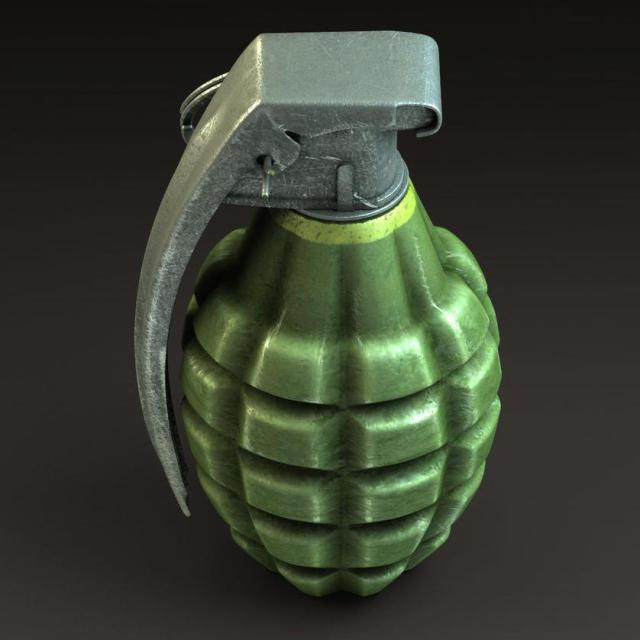grenade: (135, 31, 502, 600)
